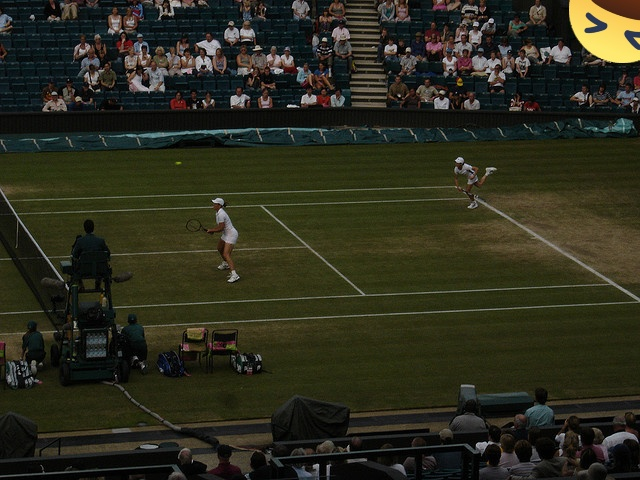haha: (569, 0, 640, 63)
